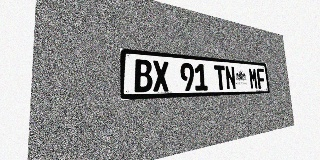1: (194, 63, 208, 91)
9: (180, 62, 195, 91)
B: (134, 59, 153, 92)
F: (256, 68, 266, 89)
M: (248, 67, 258, 89)
N: (225, 66, 236, 90)
T: (214, 65, 226, 90)
X: (152, 60, 169, 92)
